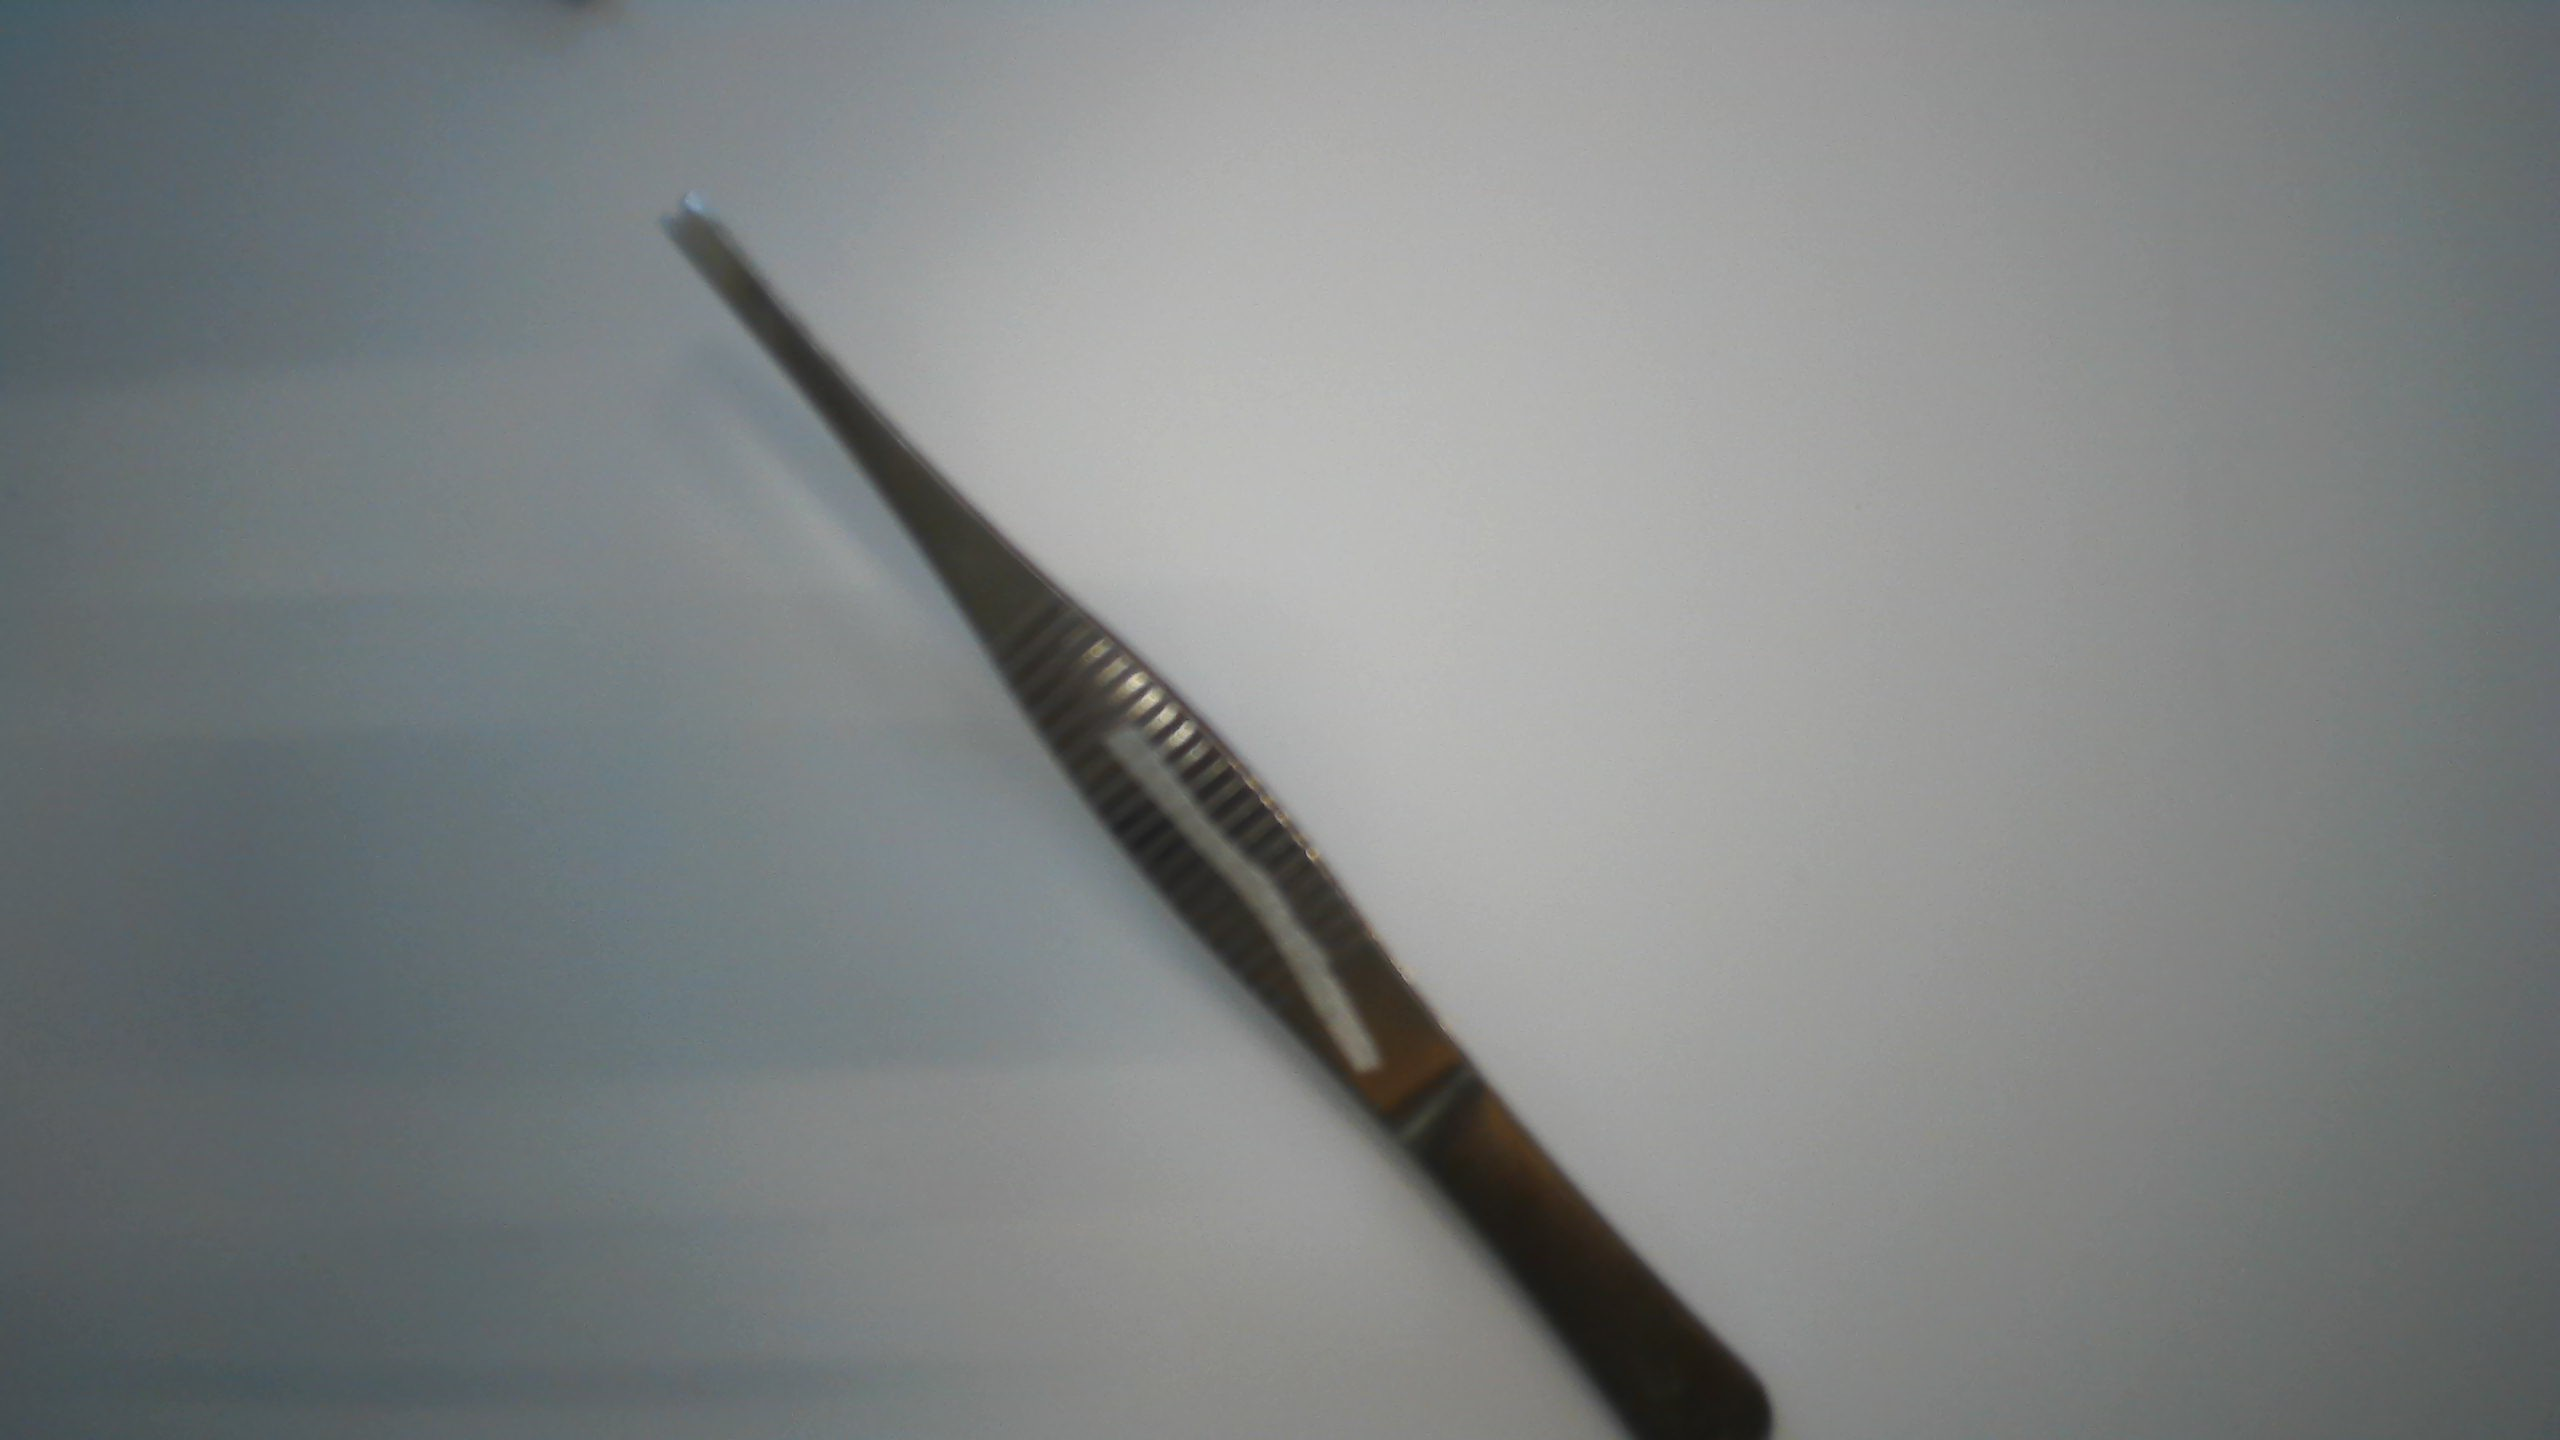Scratches: (1089, 716, 1391, 1087)
